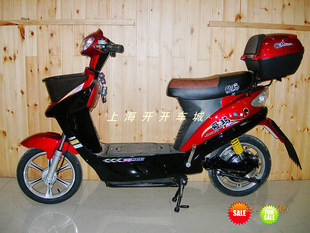电动车: (7, 22, 303, 214)
